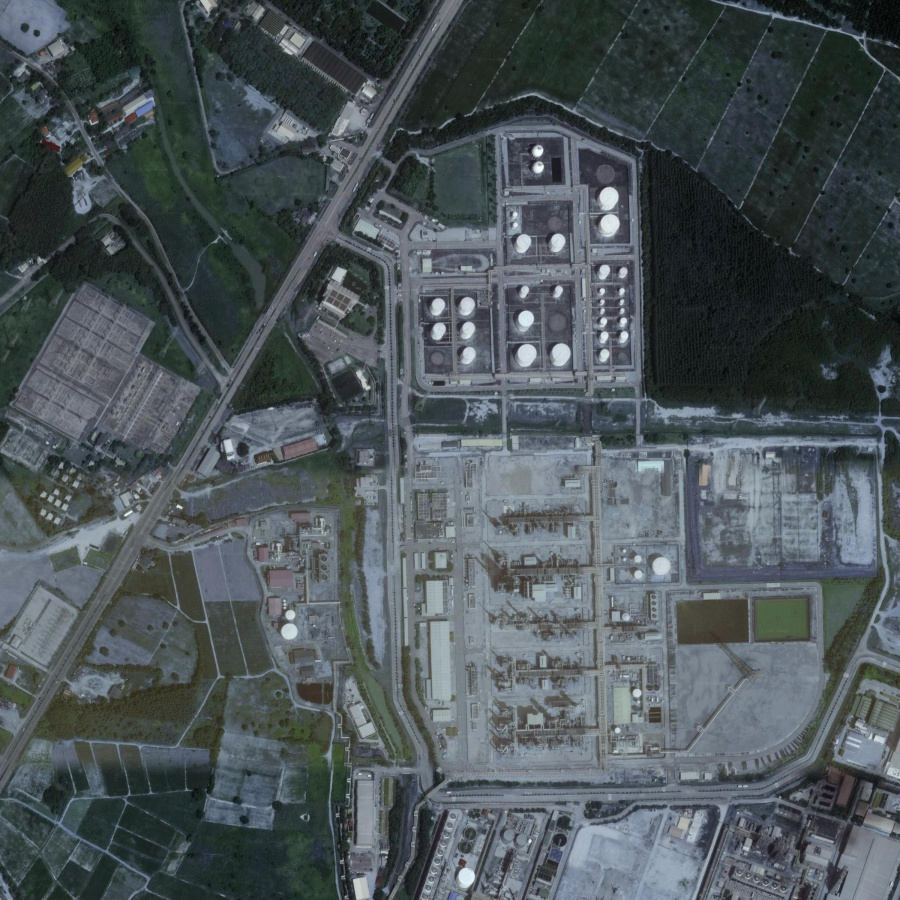PowerPlant: (366, 122, 644, 405), (478, 485, 672, 673)
